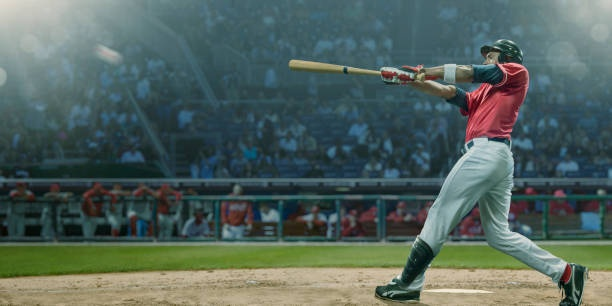bita: (284, 55, 427, 83)
